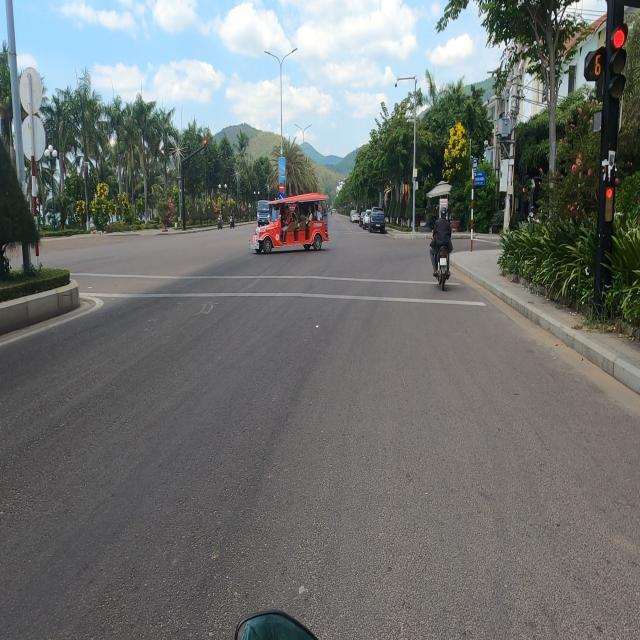walk-crossing: (84, 264, 490, 312)
